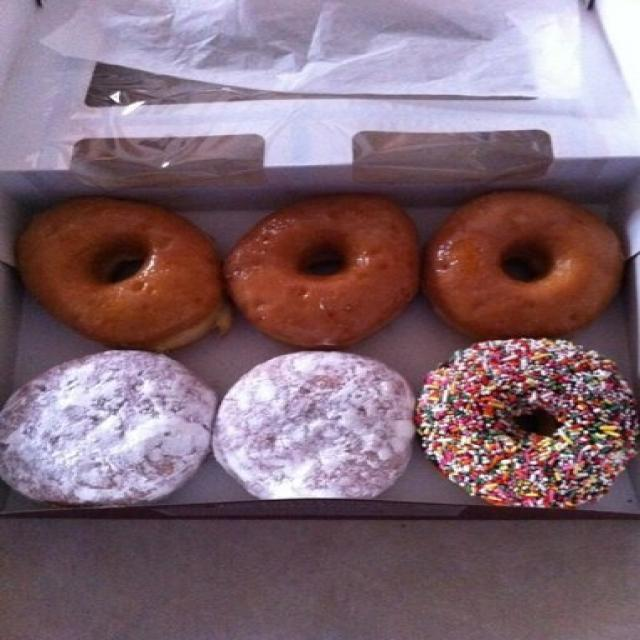Donuts: (2, 183, 636, 512)
